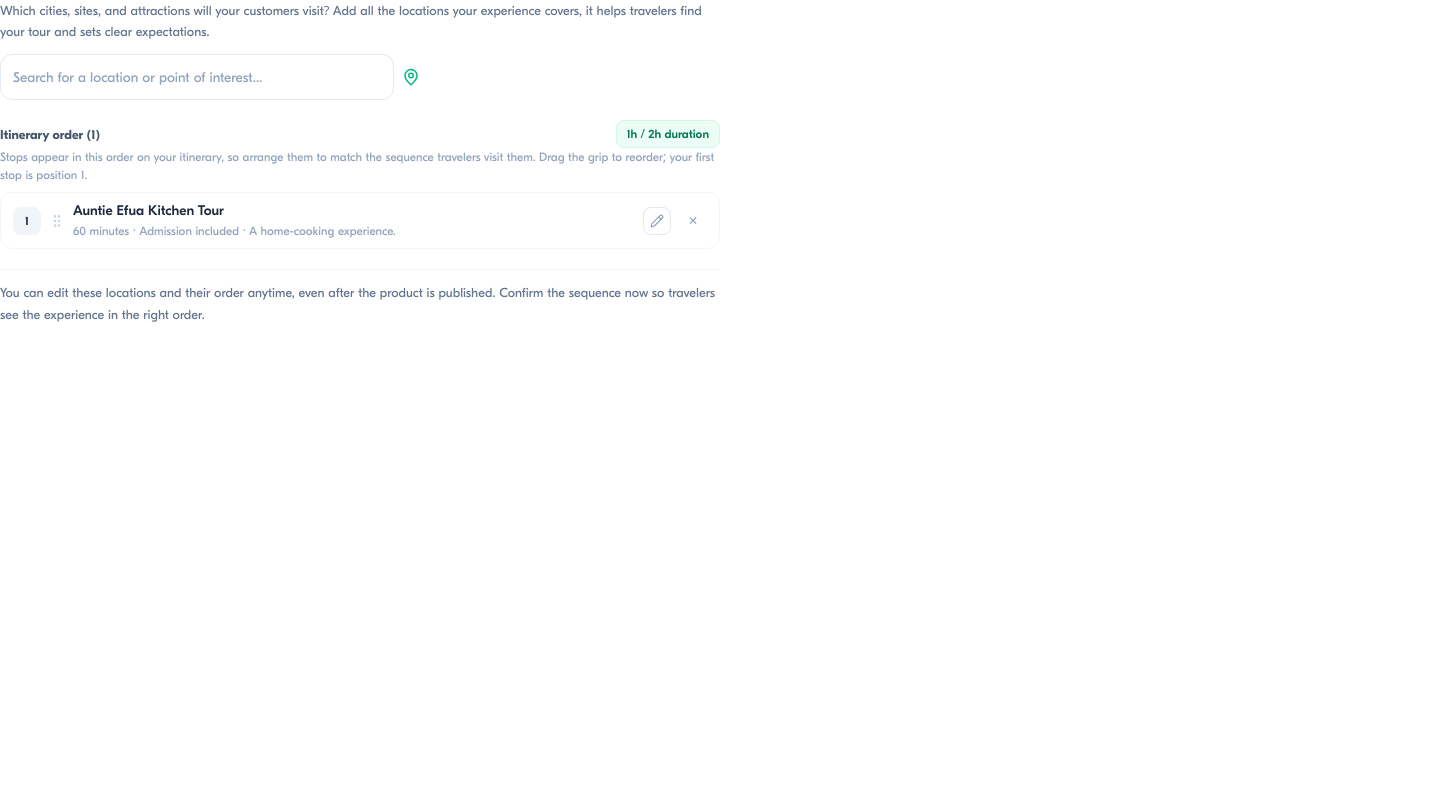
it: Step05 location modal — custom name reveals the City picker › shows the City field from the start for a stop with no city
Click the button titled "Edit details" at (657, 221), box [643,207,671,235]
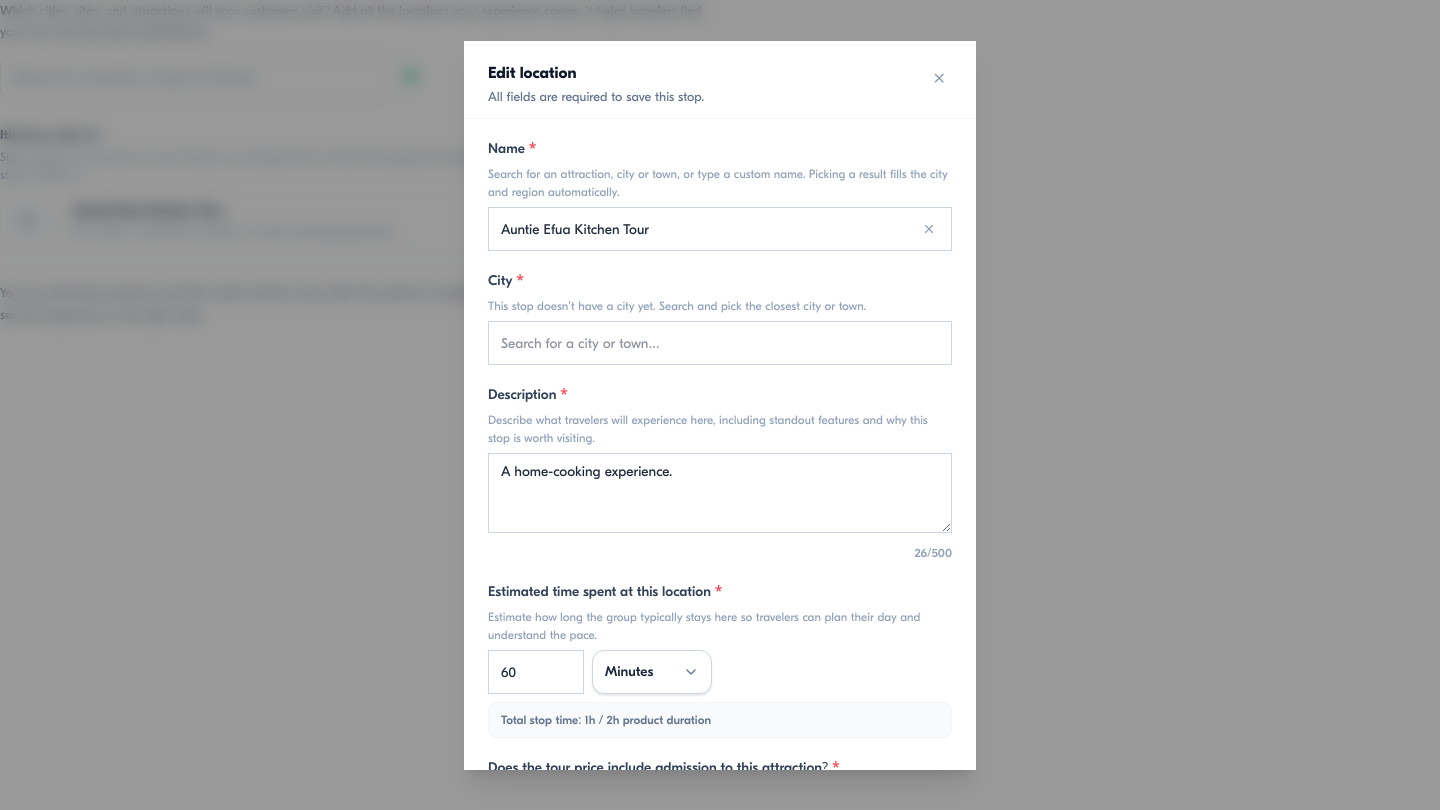
Now the heading "Edit location" is shown, box [488,64,576,82]
Now the dropdown with placeholder "Search for a city or town…" is shown, box [488,321,952,365]
